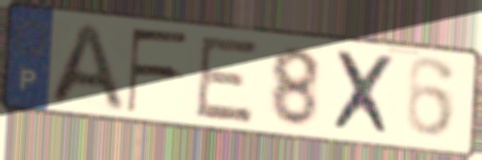6: (404, 53, 460, 148)
8: (267, 44, 325, 129)
A: (44, 21, 129, 115)
E: (192, 33, 262, 126)
F: (124, 27, 192, 116)
X: (329, 47, 398, 140)
